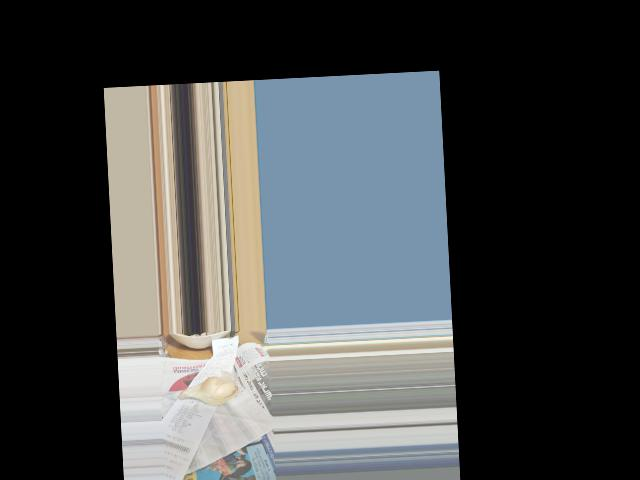onion: (183, 374, 239, 407)
